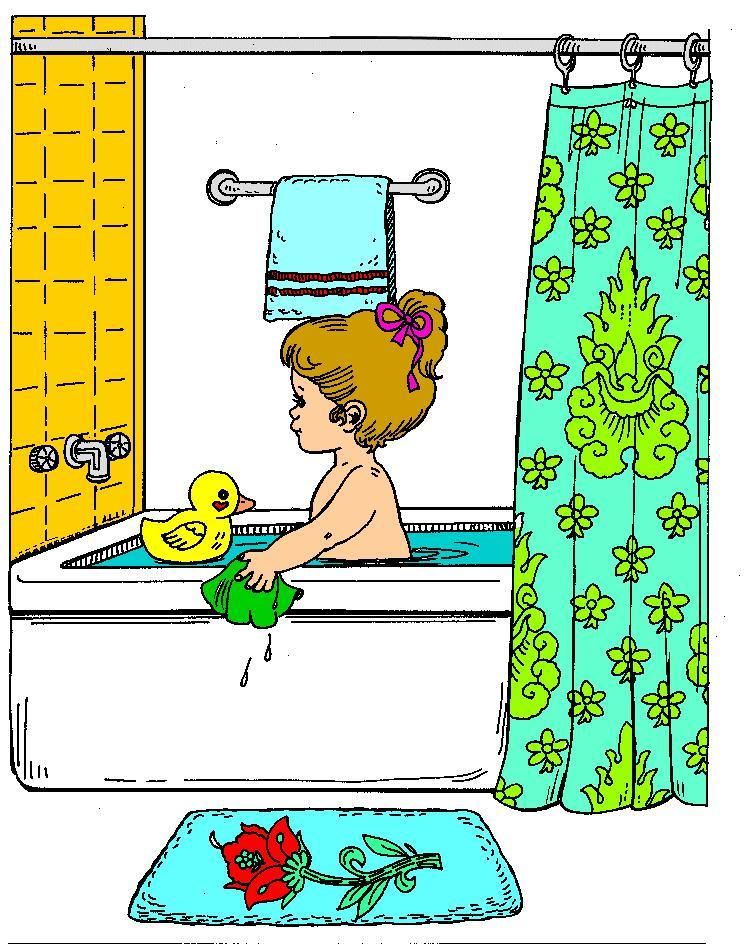bird: (136, 466, 257, 562)
person: (237, 285, 464, 590)
